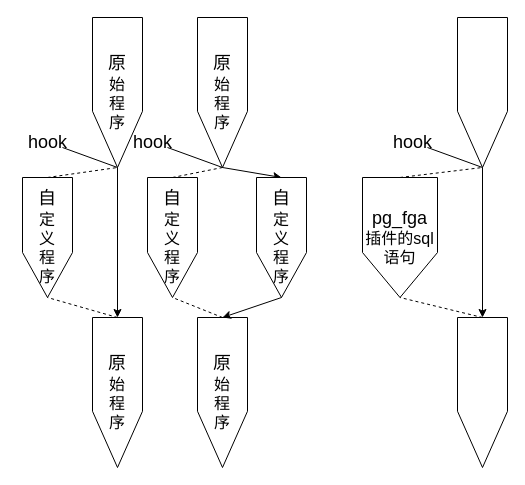
The diagram is 525 pixels wide and 485 high, and some of its shapes have lost their labels. Each missing label, with the centre of its shape:
执 行 器: point 482,392
语 法 解 析 器: point 482,92
